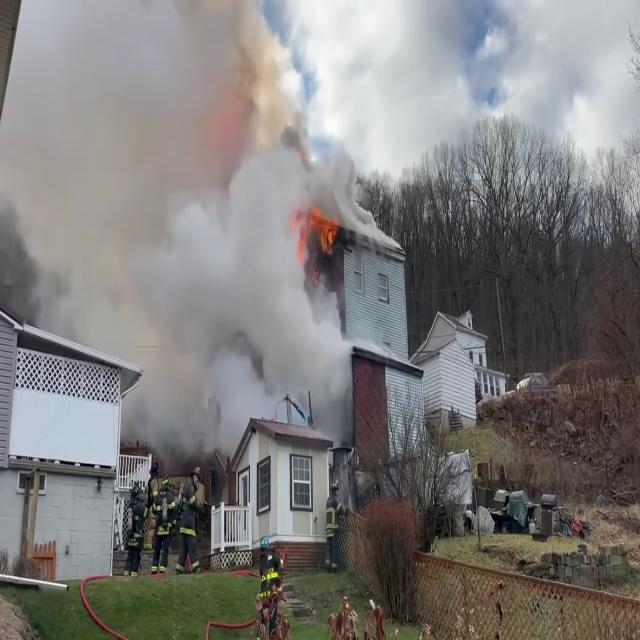Smoke: (1, 0, 355, 445)
